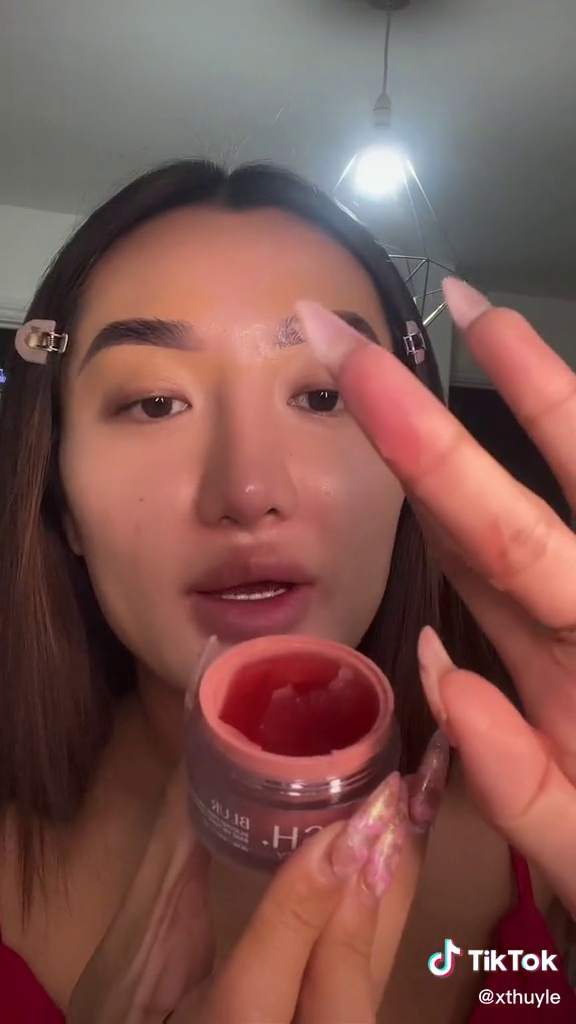train' :'yolo_data/train/images',: (174, 620, 413, 876)
